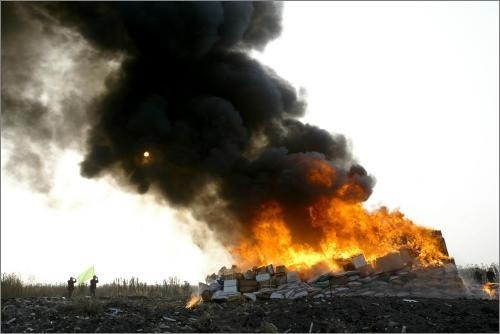fire: (227, 162, 451, 276), (185, 291, 201, 308), (482, 280, 497, 296)
